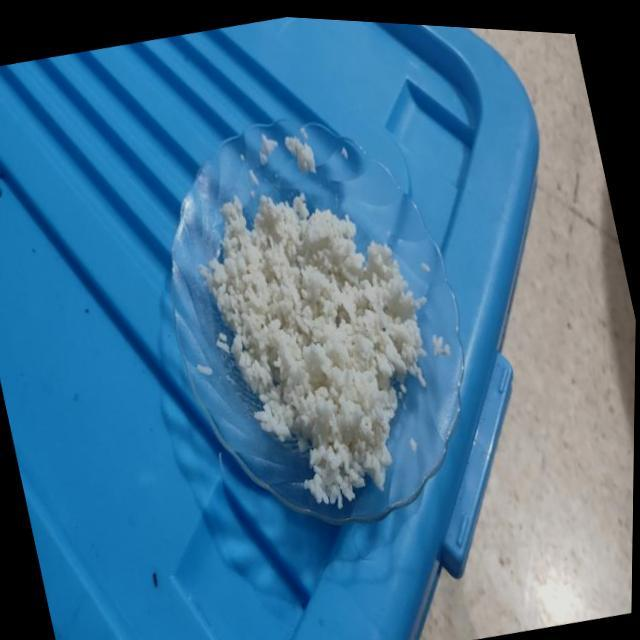nasi_putih: (200, 194, 426, 502)
